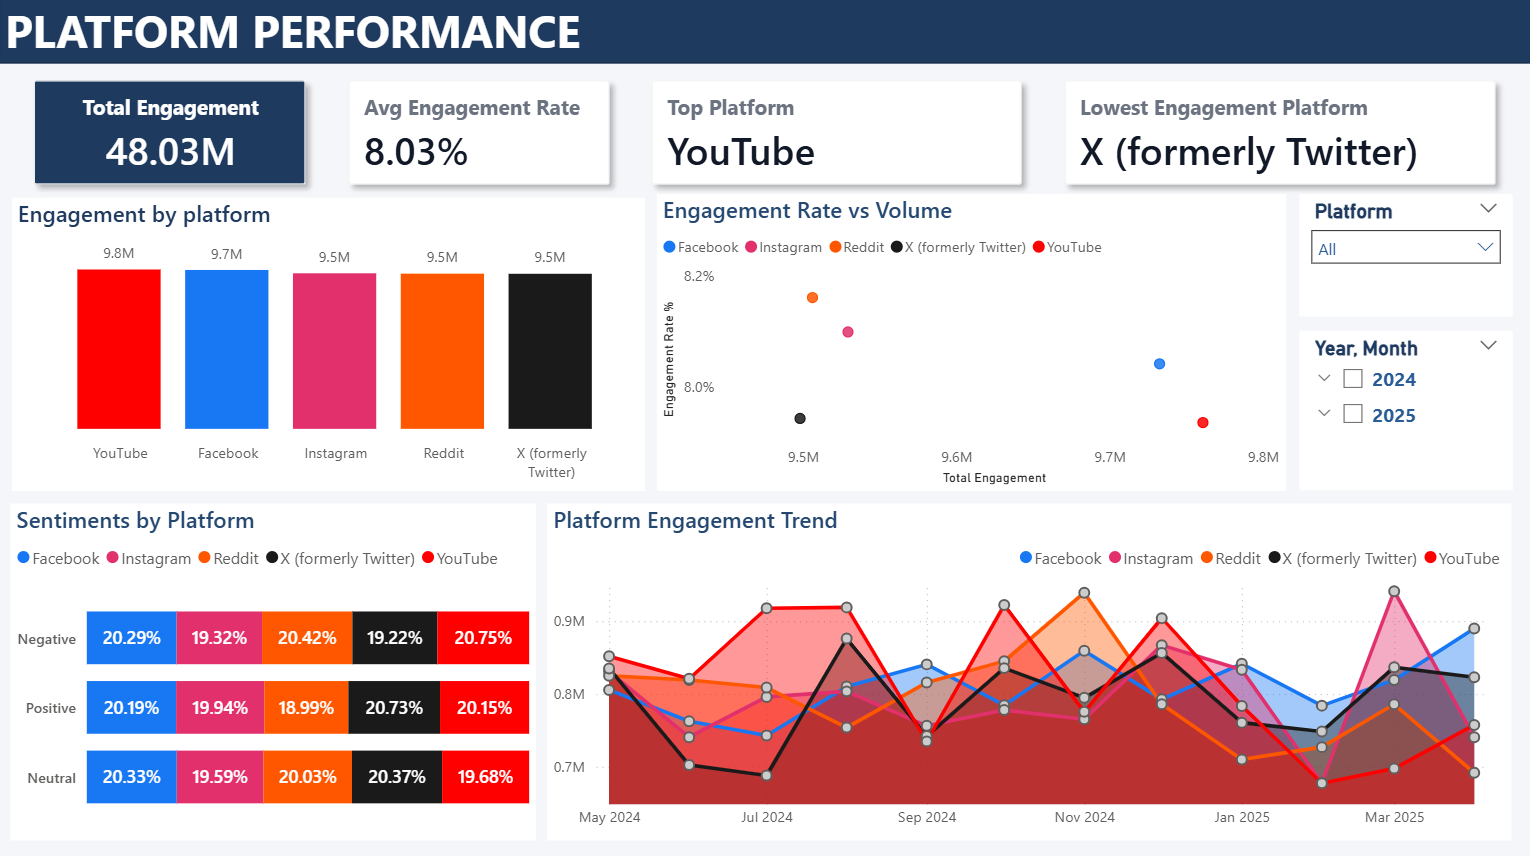

The dashboard page shown, as its layout file describes it:
{"tool":"powerbi","page":{"name":"Platform Performance","canvas":[1280,720],"ordinal":1},"visuals":[{"type":"cardVisual","fields":{"Data":["Measures (2).Top Platform"]},"box":[516.1,43.2,367.7,145.3],"z":0},{"type":"cardVisual","fields":{"Data":["Measures (2).Lowest Engagement Platform"]},"box":[861.1,43.2,418.8,145.3],"z":1000},{"type":"cardVisual","fields":{"Data":["Measures (2).Avg Engagement Rate"]},"box":[262.6,43.2,276.1,145.3],"z":2000},{"type":"shape","box":[0,0,1279.9,58],"z":3000},{"type":"textbox","box":[0,0,570.6,68.7],"z":4000},{"type":"cardVisual","fields":{"Data":["Measures (2).Total Engagement"]},"box":[0,43.2,285.3,145.3],"z":5000},{"type":"slicer","fields":{"Values":["Social Media Engagement Dataset.platform"]},"box":[1086.2,167.5,178,102.1],"z":6000},{"type":"slicer","fields":{"Values":["Social Media Engagement Dataset.Post Date.Variation.Date Hierarchy.Year","Social Media Engagement Dataset.Post Date.Variation.Date Hierarchy.Month"]},"box":[1086.2,281.4,178,133.5],"z":7000},{"type":"scatterChart","title":"Engagement Rate vs Volume","fields":{"X":["Measures (2).Total Engagement"],"Y":["Measures (2).Engagement Rate %"],"Series":["Social Media Engagement Dataset.platform"]},"box":[549.1,167.5,525.7,247.9],"z":8000},{"type":"hundredPercentStackedBarChart","title":"Sentiments by Platform","fields":{"Y":["Measures (2).Total Posts"],"Series":["Social Media Engagement Dataset.platform"],"Category":["Social Media Engagement Dataset.sentiment_label"]},"box":[9.2,425.3,438.5,281.3],"z":9000},{"type":"lineChart","title":"Platform Engagement Trend","fields":{"Y":["Measures (2).Total Engagement"],"Category":["Social Media Engagement Dataset.Post Date.Variation.Date Hierarchy.Year","Social Media Engagement Dataset.Post Date.Variation.Date Hierarchy.Quarter","Social Media Engagement Dataset.Post Date.Variation.Date Hierarchy.Month"],"Series":["Social Media Engagement Dataset.platform"]},"box":[458.3,425.3,805.7,281.3],"z":10000},{"type":"clusteredColumnChart","title":"Engagement by platform","fields":{"Category":["Social Media Engagement Dataset.platform"],"Y":["Measures (2).Total Engagement"]},"box":[10.4,170,528.3,245.3],"z":11000}]}

Visuals, with their boxes in screenshot pixels (x1, y1, x2, y2), scaled from the page's 1280x720 canvas onto the 1530x856 screenshot:
cardVisual - Measures (2).Top Platform: crop(617, 51, 1056, 224)
cardVisual - Measures (2).Lowest Engagement Platform: crop(1029, 51, 1529, 224)
cardVisual - Measures (2).Avg Engagement Rate: crop(314, 51, 644, 224)
shape: crop(0, 0, 1529, 69)
textbox: crop(0, 0, 682, 82)
cardVisual - Measures (2).Total Engagement: crop(0, 51, 341, 224)
slicer - Social Media Engagement Dataset.platform: crop(1298, 199, 1511, 321)
slicer - Social Media Engagement Dataset.Post Date.Variation.Date Hierarchy.Year x Social Media Engagement Dataset.Post Date.Variation.Date Hierarchy.Month: crop(1298, 335, 1511, 493)
"Engagement Rate vs Volume" scatterChart: crop(656, 199, 1285, 494)
"Sentiments by Platform" hundredPercentStackedBarChart: crop(11, 506, 535, 840)
"Platform Engagement Trend" lineChart: crop(548, 506, 1511, 840)
"Engagement by platform" clusteredColumnChart: crop(12, 202, 644, 494)
